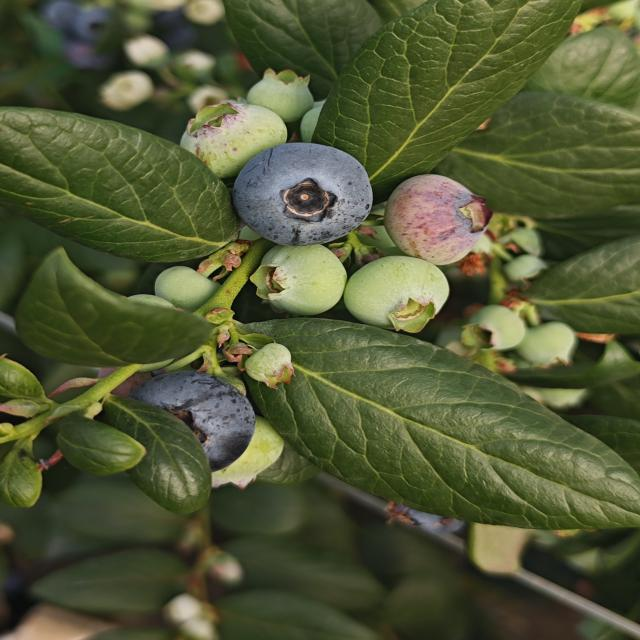ripe: (234, 138, 388, 244), (125, 366, 262, 476), (35, 0, 200, 72), (409, 169, 490, 238), (373, 489, 471, 537)
